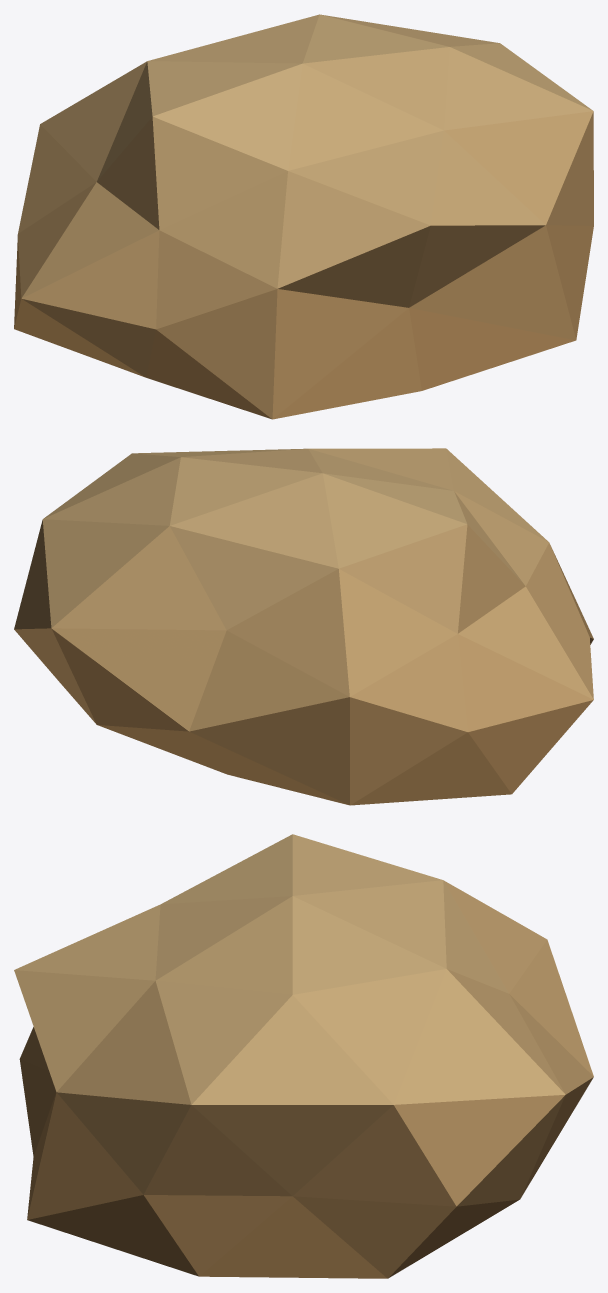
Rendered from rock_boulder_b.glb.
3 views of the same model, one above another, from view 1: azimuth 30°, elevation 25°; view 2: azimuth 150°, elevation 25°; view 3: azimuth 270°, elevation 25° (orthographic). The views are drawn at different scales.
Parts seen in each view (by area): view 1: rock_boulder_b; view 2: rock_boulder_b; view 3: rock_boulder_b.
Part boxes in pixels (x1=…): rock_boulder_b: x1=14, y1=14, x2=593, y2=419; rock_boulder_b: x1=14, y1=448, x2=593, y2=805; rock_boulder_b: x1=14, y1=834, x2=593, y2=1278.
Size of the model in its own units: 1.09 by 0.4765 by 0.9599.
